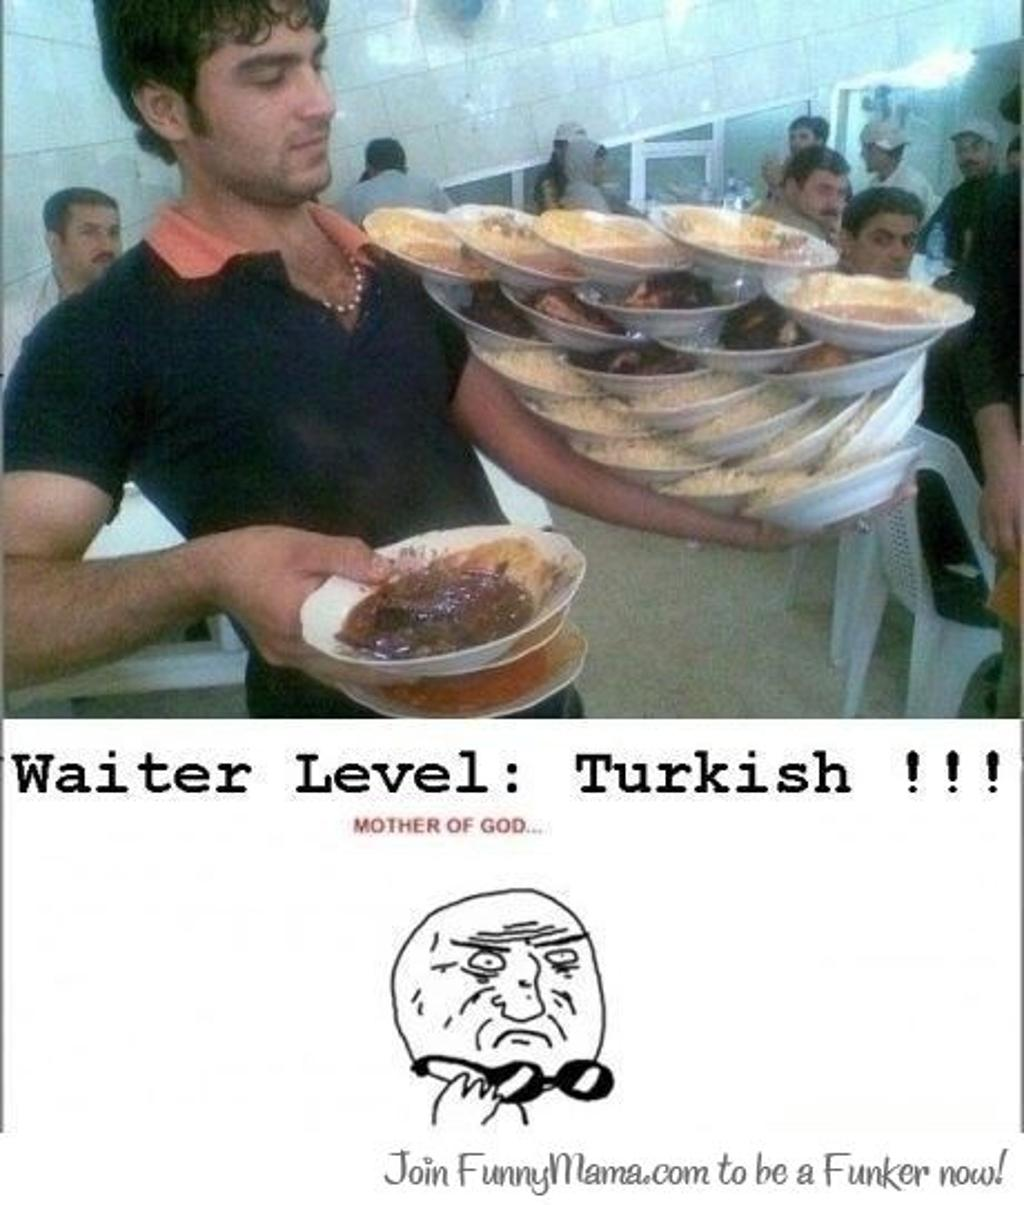face: (188, 38, 336, 191), (61, 214, 123, 283), (860, 219, 921, 285), (797, 174, 846, 231), (954, 140, 987, 181), (789, 130, 814, 160), (1005, 156, 1024, 190), (553, 138, 572, 165), (588, 156, 605, 185), (859, 144, 875, 172)
